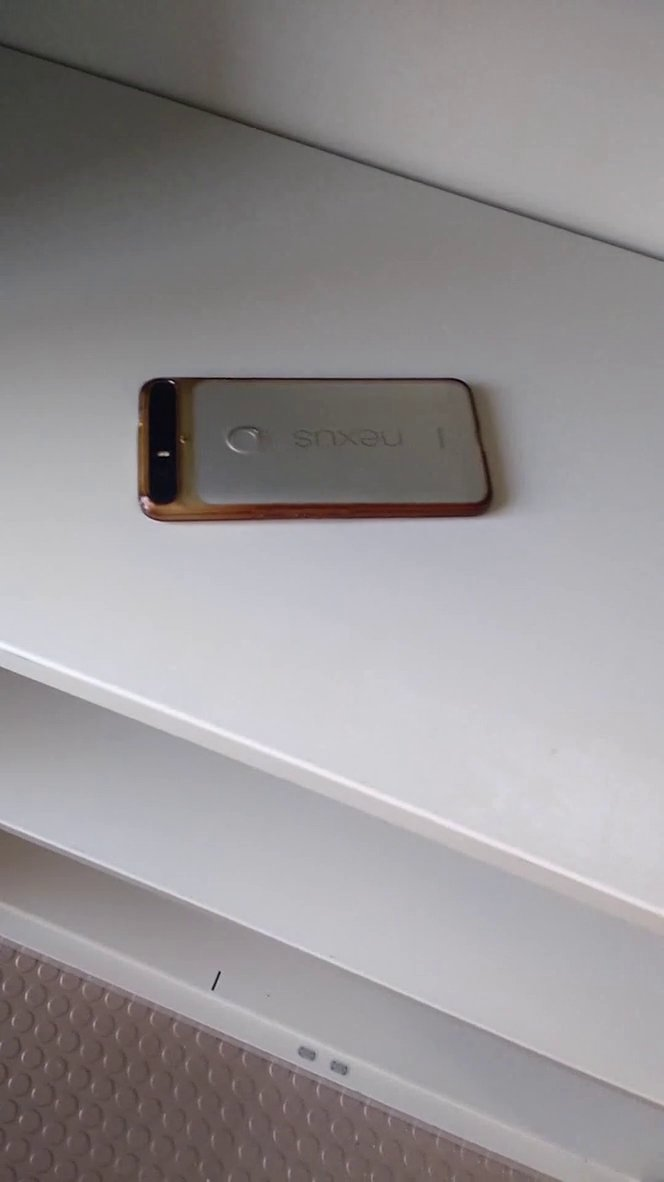phone: (126, 356, 510, 547)
